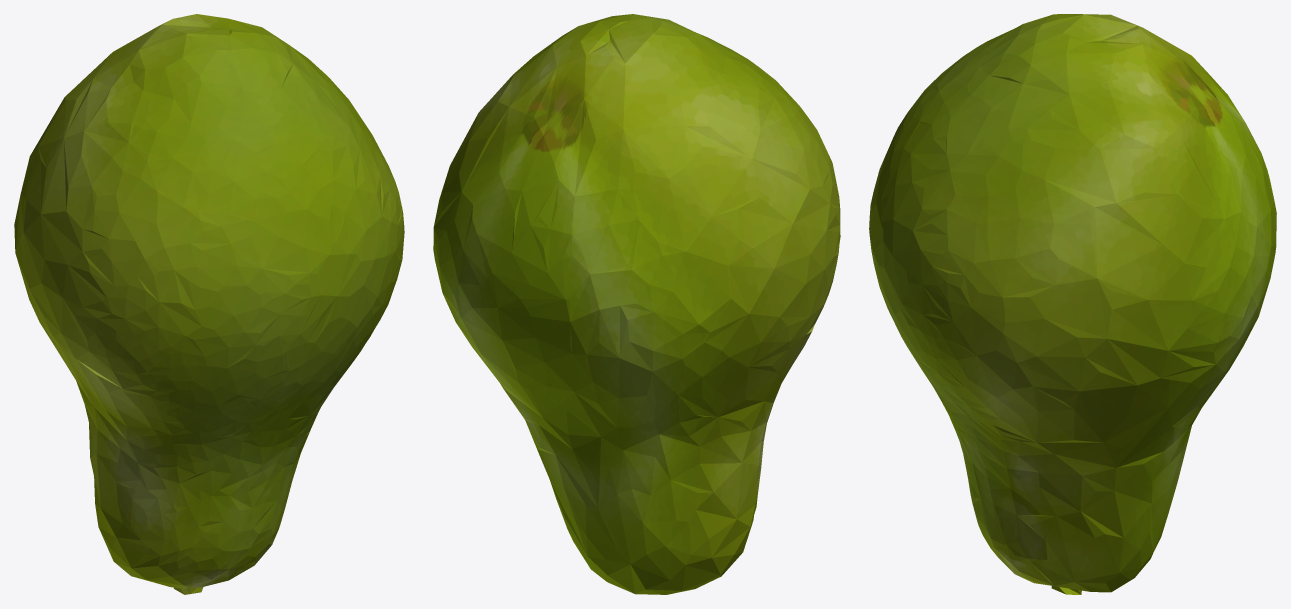
File: ycb_pear_metric_fp.obj
3 renders of one model, left to right at view 1: azimuth 30°, elevation 25°; view 2: azimuth 150°, elevation 25°; view 3: azimuth 270°, elevation 25°, orthographic. The views are drawn at different scales.
Size of the model in its own units: 0.0665 by 0.1042 by 0.0665.
1 material, 1 textured.
